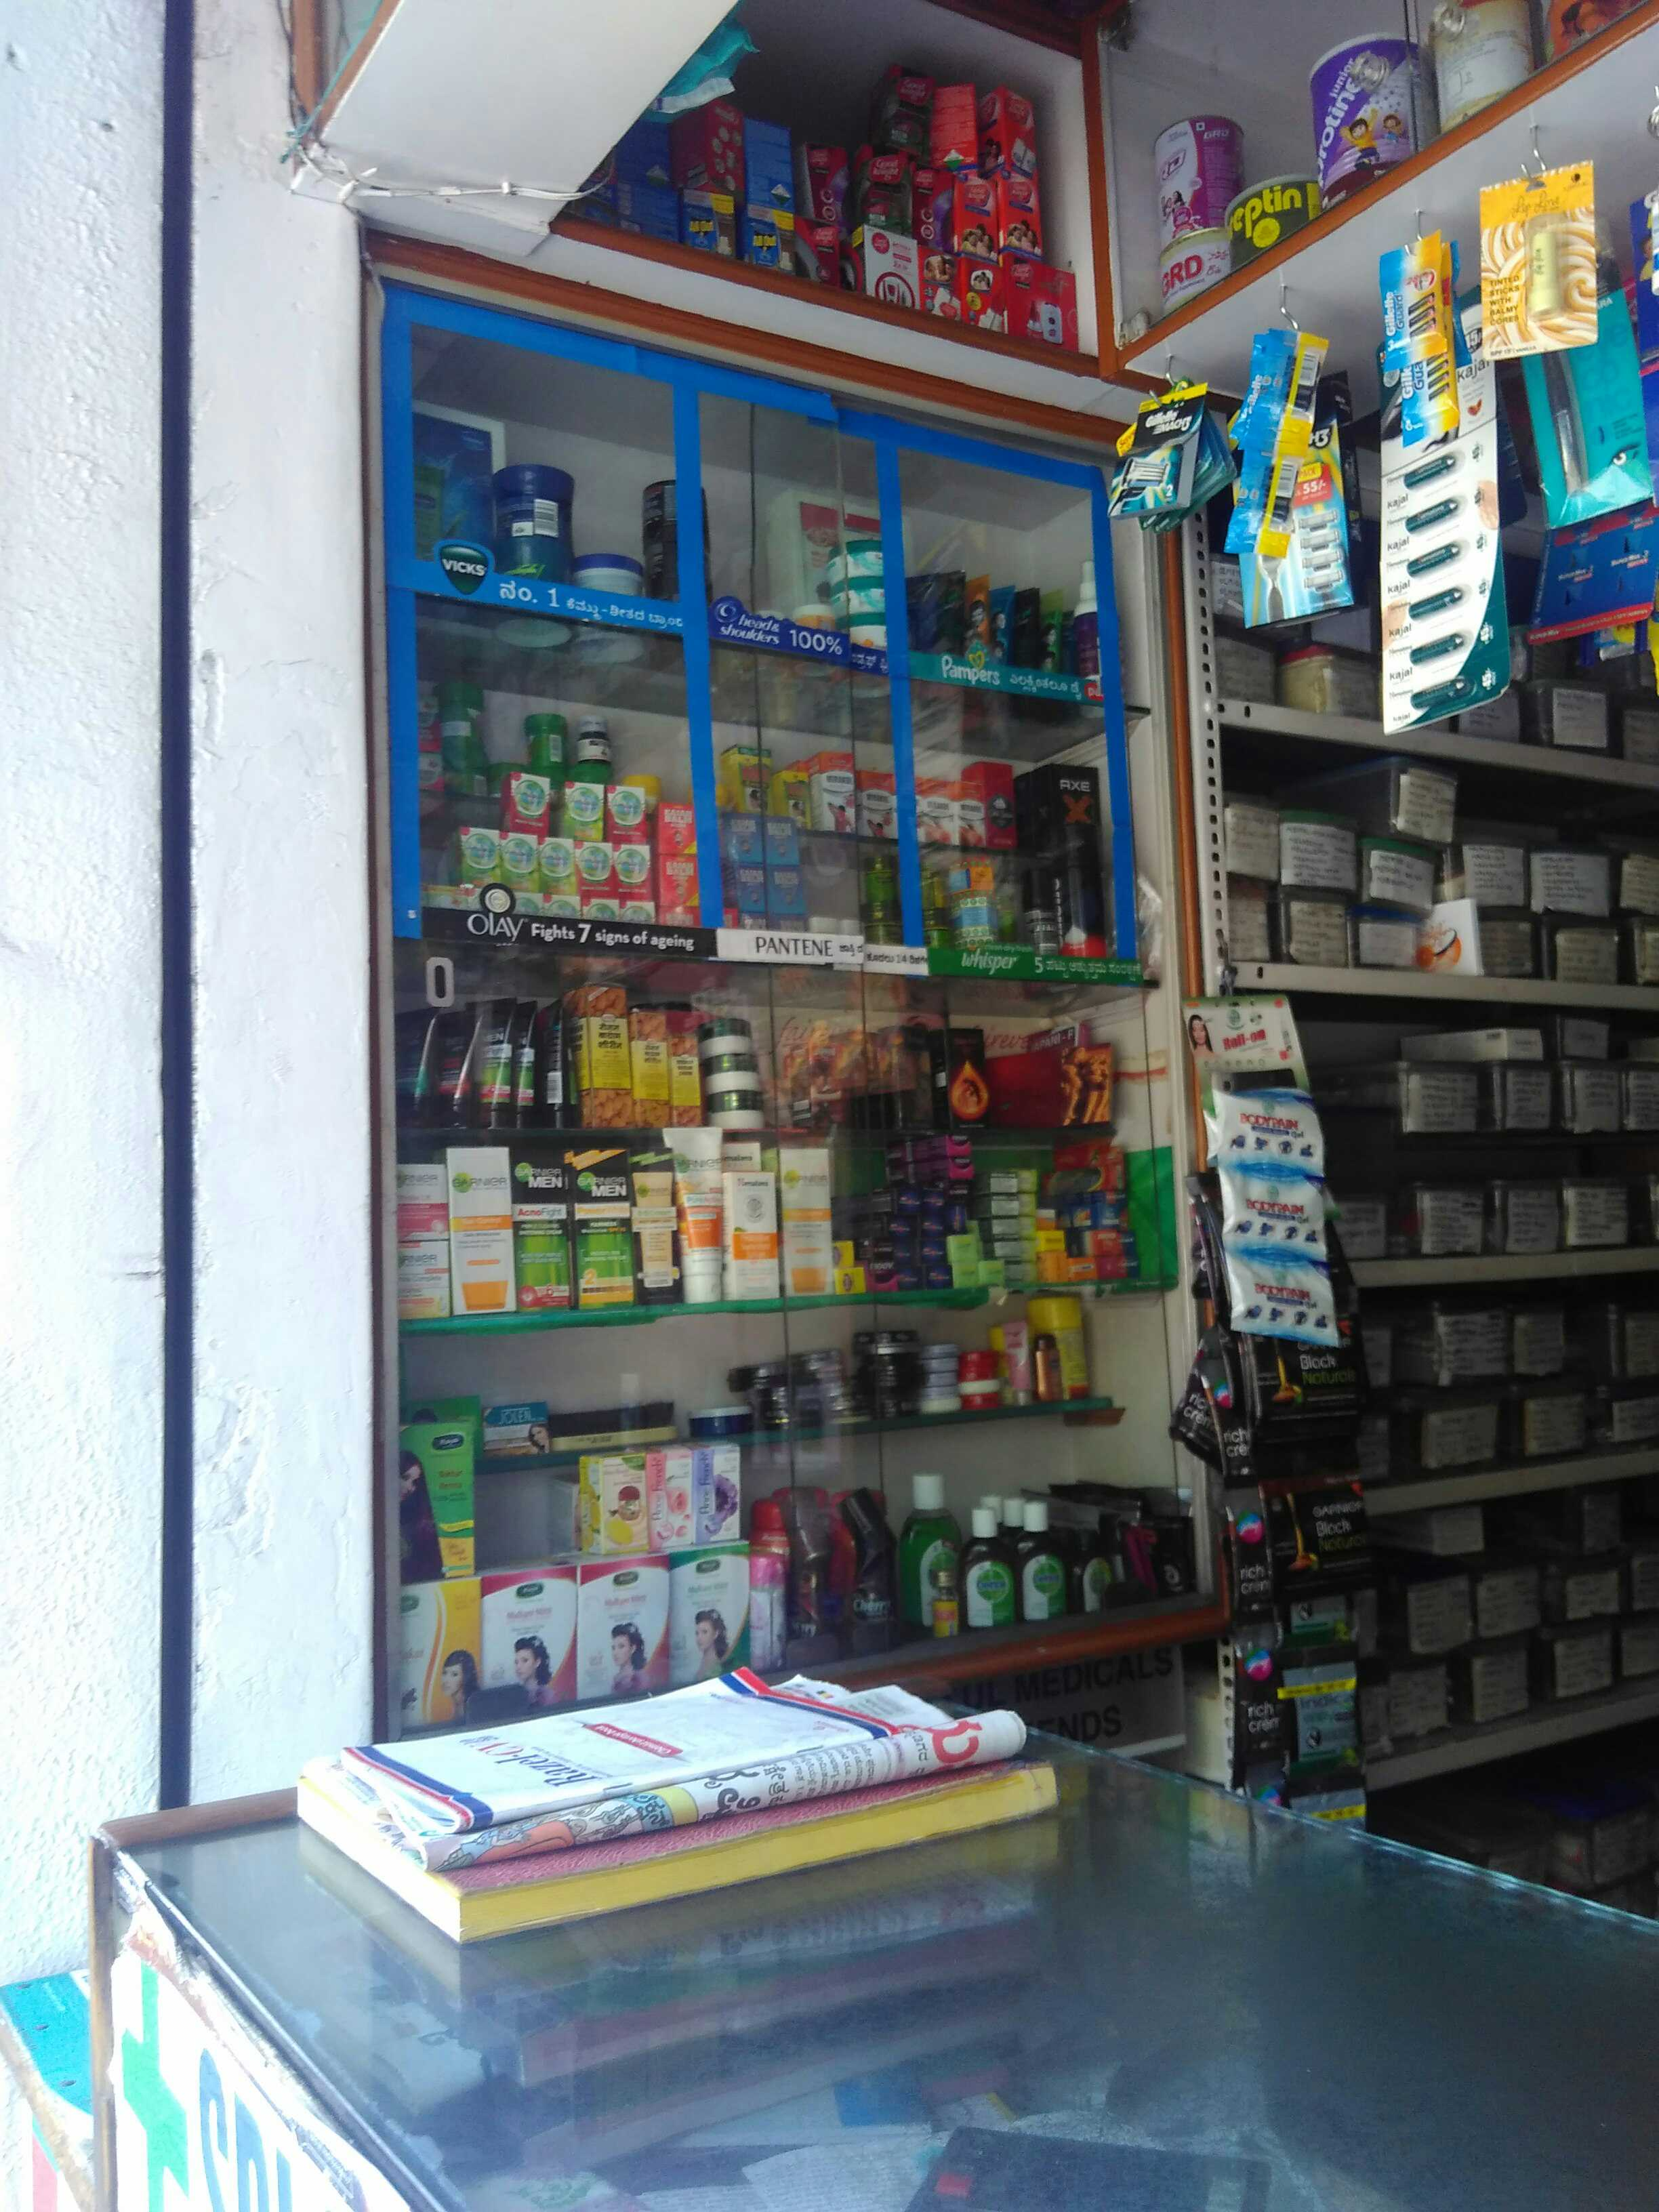gillette: (1107, 380, 1208, 510), (1236, 333, 1330, 453), (1378, 228, 1446, 371), (1223, 444, 1304, 559)
